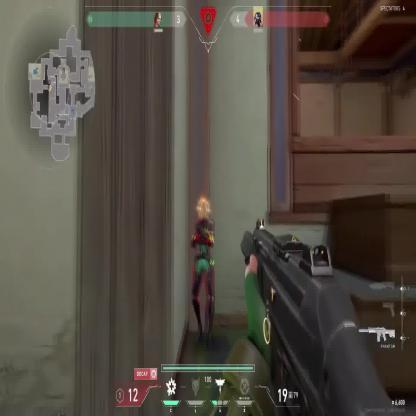enemy: (190, 196, 214, 350)
enemy_head: (196, 197, 210, 220)
